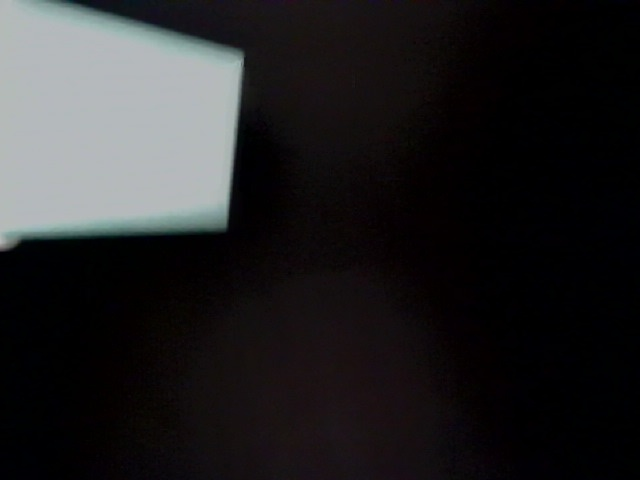CYLJ: (553, 1, 638, 85)
